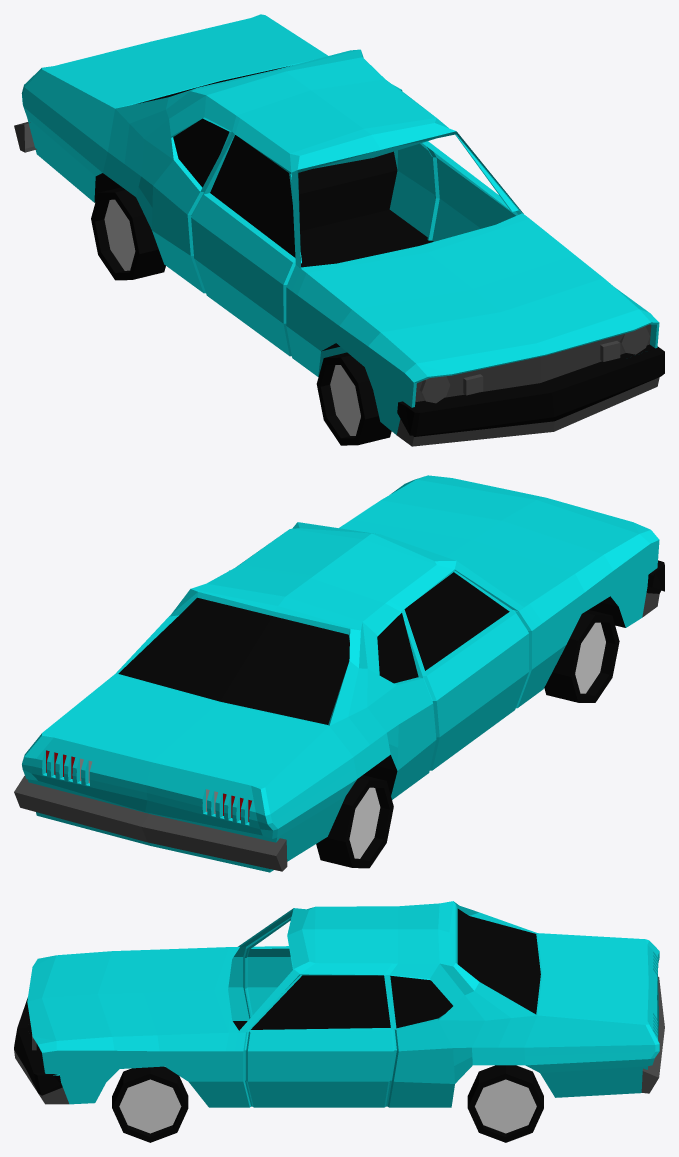
The model's file is muscle_car_classic_blue_low_poly.glb.
3 renders of one model, top to bottom at view 1: azimuth 30°, elevation 25°; view 2: azimuth 150°, elevation 25°; view 3: azimuth 270°, elevation 25°, orthographic. The views are drawn at different scales.
Parts seen in each view (by area): view 1: Cube_0; view 2: Cube_0; view 3: Cube_0.
Part boxes in pixels (x1=…): Cube_0: x1=14, y1=14, x2=664, y2=446; Cube_0: x1=14, y1=475, x2=664, y2=872; Cube_0: x1=14, y1=901, x2=664, y2=1142.
Bounding box in the file's own units: 1.24 × 0.9433 × 3.38.
